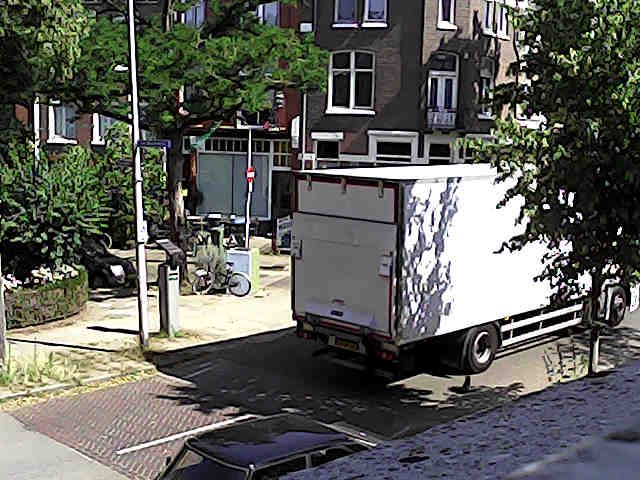suv: (158, 414, 374, 479)
whitevan: (291, 164, 585, 373)
